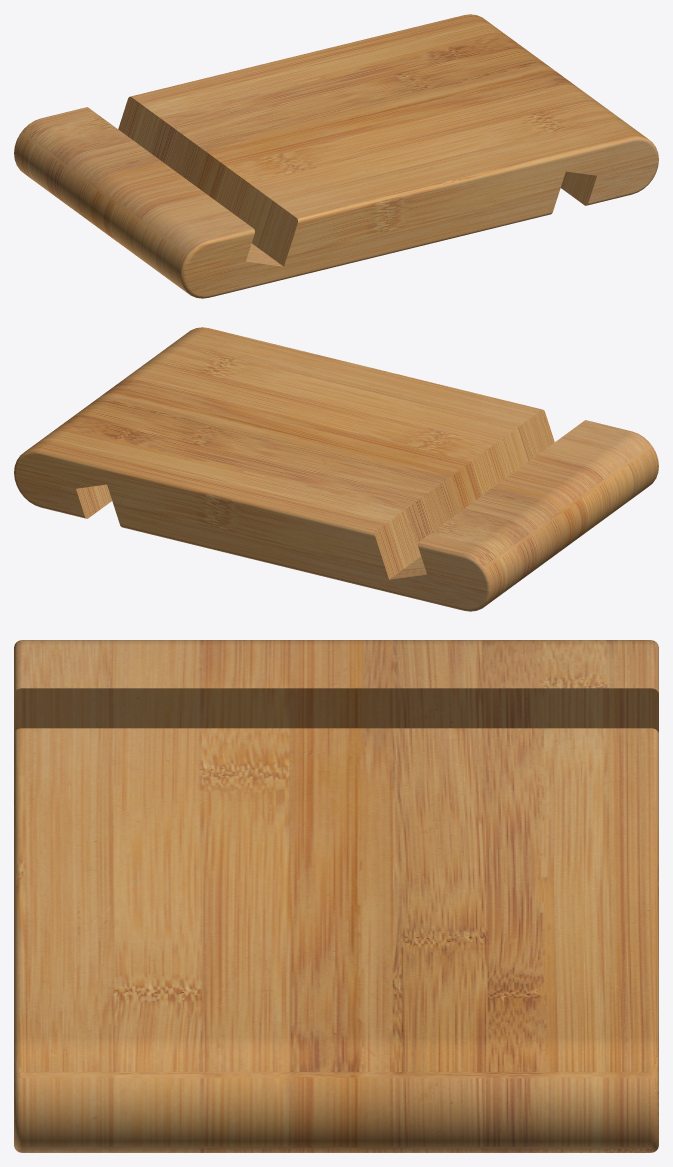
The model's file is ikea1.glb.
3 renders of one model, top to bottom at view 1: azimuth 30°, elevation 25°; view 2: azimuth 150°, elevation 25°; view 3: azimuth 270°, elevation 25°, orthographic. The views are drawn at different scales.
Visible parts, largest first — view 1: Object_2; view 2: Object_2; view 3: Object_2.
Boxes of the visible parts, x1,y1,x2,y2 form: Object_2: (14, 14, 658, 298); Object_2: (14, 327, 658, 611); Object_2: (14, 640, 658, 1152).
Size of the model in its own units: 0.13 by 0.015 by 0.08.
1 material, 1 textured.
